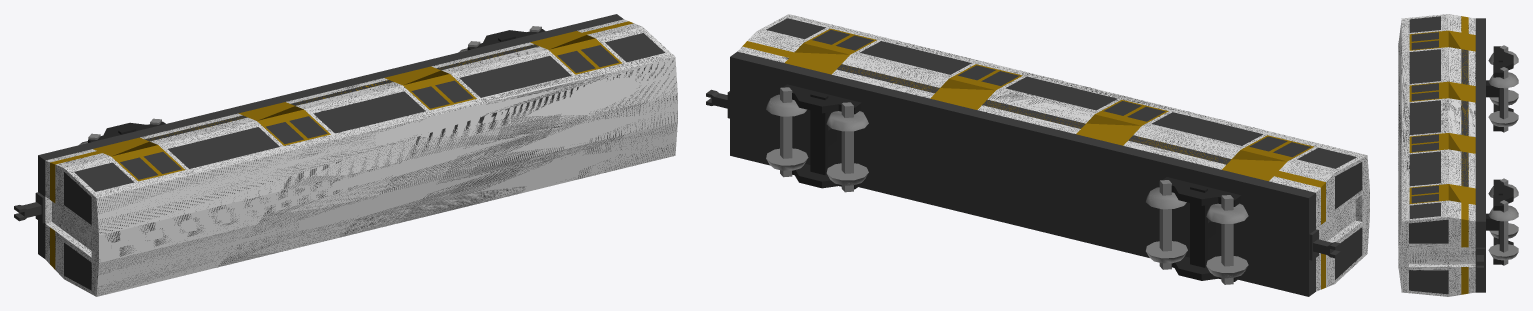
The model's file is subway_car.dae.
3 views of the same model, side by side, from view 1: azimuth 30°, elevation 25°; view 2: azimuth 150°, elevation 25°; view 3: azimuth 270°, elevation 25° (orthographic). The views are drawn at different scales.
Parts seen in each view (by area): view 1: coords_ME_ID4_MA_Sub_car_part_1, coords_ME_ID4_MA_Windows, coords_ME_ID14_MA_Windows, coords_ME_ID72_MA_Windows, coords_ME_ID78_MA_Windows, coords_ME_ID126_MA_Windows, coords_ME_ID186_MA_Doors, coords_ME_ID60_MA_Doors, coords_ME_ID52_MA_Doors, coords_ME_ID192_MA_Doors, coords_ME_ID306_MA_Windows, coords_ME_ID300_MA_Windows (+12 smaller); view 2: coords_ME_ID14_MA_Windows, coords_ME_ID4_MA_Sub_car_part_1, coords_ME_ID4_MA_Windows, coords_ME_ID186_MA_Doors, coords_ME_ID52_MA_Doors, coords_ME_ID192_MA_Doors, coords_ME_ID60_MA_Doors, coords_ME_ID72_MA_Windows, coords_ME_ID126_MA_Windows, coords_ME_ID78_MA_Windows, coords_ME_ID395_MA_Frame, coords_ME_ID481_MA_Frame (+27 smaller); view 3: coords_ME_ID4_MA_Sub_car_part_1, coords_ME_ID4_MA_Windows, coords_ME_ID14_MA_Windows, coords_ME_ID72_MA_Windows, coords_ME_ID78_MA_Windows, coords_ME_ID126_MA_Windows, coords_ME_ID144_MA_Windows, coords_ME_ID138_MA_Windows, coords_ME_ID192_MA_Doors, coords_ME_ID186_MA_Doors, coords_ME_ID52_MA_Doors, coords_ME_ID60_MA_Doors (+39 smaller).
Boxes of the visible parts, x1,y1,x2,y2 form: coords_ME_ID4_MA_Sub_car_part_1: (45,19,677,296); coords_ME_ID4_MA_Windows: (45,21,677,295); coords_ME_ID14_MA_Windows: (38,14,623,258); coords_ME_ID72_MA_Windows: (313,91,425,133); coords_ME_ID78_MA_Windows: (168,127,279,168); coords_ME_ID126_MA_Windows: (459,56,571,97); coords_ME_ID186_MA_Doors: (93,137,184,181); coords_ME_ID60_MA_Doors: (530,31,622,74); coords_ME_ID52_MA_Doors: (384,66,476,110); coords_ME_ID192_MA_Doors: (238,102,330,145); coords_ME_ID306_MA_Windows: (605,33,664,62); coords_ME_ID300_MA_Windows: (74,162,133,191); coords_ME_ID14_MA_Windows: (730,51,1315,296); coords_ME_ID4_MA_Sub_car_part_1: (737,14,1369,291); coords_ME_ID4_MA_Windows: (738,15,1369,289); coords_ME_ID186_MA_Doors: (1222,135,1314,181); coords_ME_ID52_MA_Doors: (930,64,1022,109); coords_ME_ID192_MA_Doors: (1076,100,1168,145); coords_ME_ID60_MA_Doors: (785,28,876,74); coords_ME_ID72_MA_Windows: (1005,76,1117,110); coords_ME_ID126_MA_Windows: (860,41,971,74); coords_ME_ID78_MA_Windows: (1151,112,1262,145); coords_ME_ID395_MA_Frame: (810,92,836,174); coords_ME_ID481_MA_Frame: (1190,185,1216,267); coords_ME_ID4_MA_Sub_car_part_1: (1398,14,1475,296); coords_ME_ID4_MA_Windows: (1398,14,1475,296); coords_ME_ID14_MA_Windows: (1475,18,1485,292); coords_ME_ID72_MA_Windows: (1409,100,1440,134); coords_ME_ID78_MA_Windows: (1409,49,1440,83); coords_ME_ID126_MA_Windows: (1409,151,1440,186); coords_ME_ID144_MA_Windows: (1409,270,1448,294); coords_ME_ID138_MA_Windows: (1409,219,1448,243); coords_ME_ID192_MA_Doors: (1409,81,1475,102); coords_ME_ID186_MA_Doors: (1409,30,1475,51); coords_ME_ID52_MA_Doors: (1409,133,1475,153); coords_ME_ID60_MA_Doors: (1409,184,1475,204).
Bounding box in the file's own units: 193 × 32.54 × 44.37.
